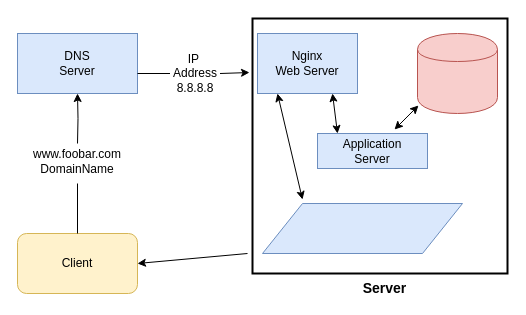
The diagram is 526 pixels wide and 315 high, and some of its shapes have lost their labels. The box of each missing label's shape, as (x1, y1, x2, y2) in pixels:
Application Files Code Base: (262, 202, 462, 254)
MySQL Data Base: (416, 32, 498, 114)
